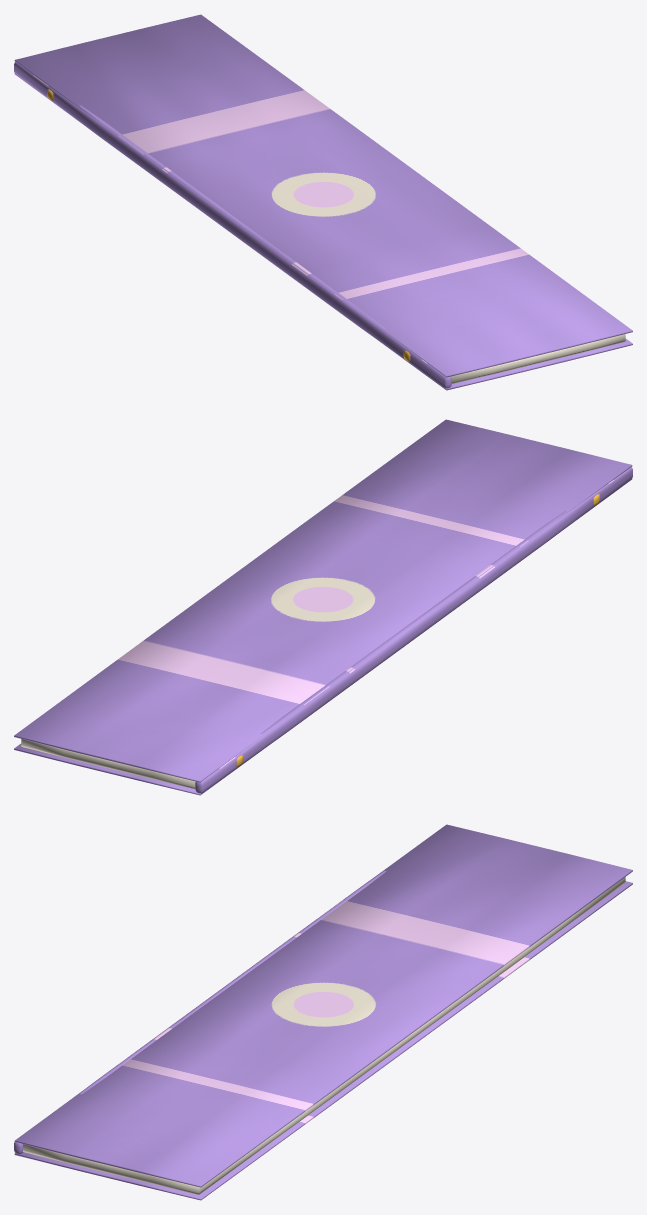
File: 坡道书_淡紫.glb
The picture shows the model from 3 angles, top to bottom: view 1: azimuth 30°, elevation 25°; view 2: azimuth 150°, elevation 25°; view 3: azimuth 330°, elevation 25°; orthographic projection.
Parts seen in each view (by area): view 1: RampBook_淡紫; view 2: RampBook_淡紫; view 3: RampBook_淡紫.
Part boxes in pixels (x1,y1,x2,y2): RampBook_淡紫: [14, 14, 632, 390]; RampBook_淡紫: [14, 419, 632, 795]; RampBook_淡紫: [14, 824, 632, 1200].
Size of what is drawn, in the model's own units: 0.2534 by 0.02 by 0.9999.
3 materials, 3 textured.
